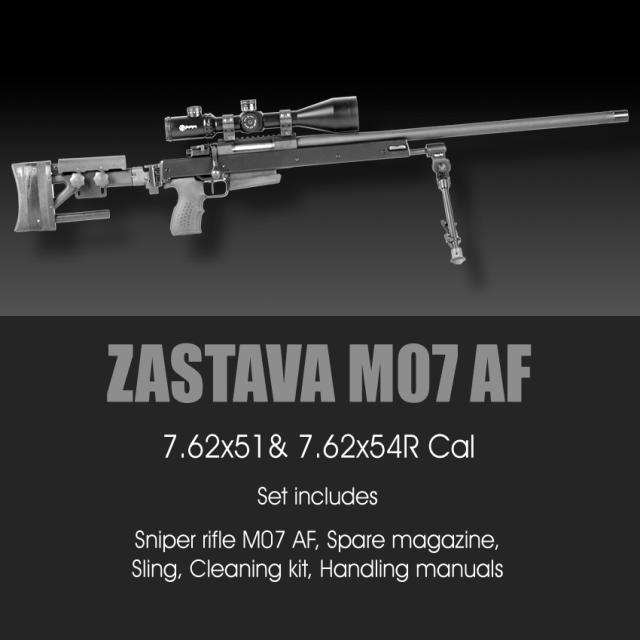Rifle: (10, 96, 632, 237)
